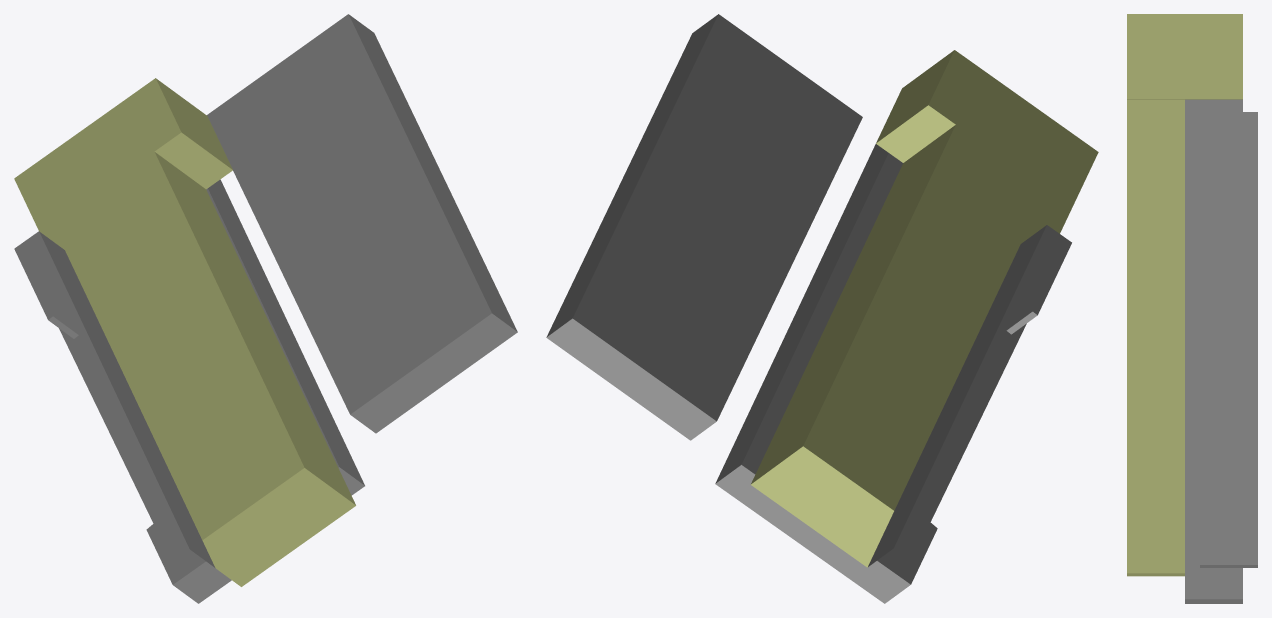
3 renders of one model, left to right at view 1: azimuth 30°, elevation 25°; view 2: azimuth 150°, elevation 25°; view 3: azimuth 270°, elevation 25°, orthographic. The views are drawn at different scales.
Visible parts, largest first — view 1: 0_1_2_0_0_1_2_0_3; view 2: 0_1_2_0_0_1_2_0_3; view 3: 0_1_2_0_0_1_2_0_3.
Boxes of the visible parts, x1,y1,x2,y2 form: 0_1_2_0_0_1_2_0_3: (14,14,517,603); 0_1_2_0_0_1_2_0_3: (546,14,1098,603); 0_1_2_0_0_1_2_0_3: (1127,14,1257,603).
Bounding box in the file's own units: 32.46 × 33.38 × 6.78.
